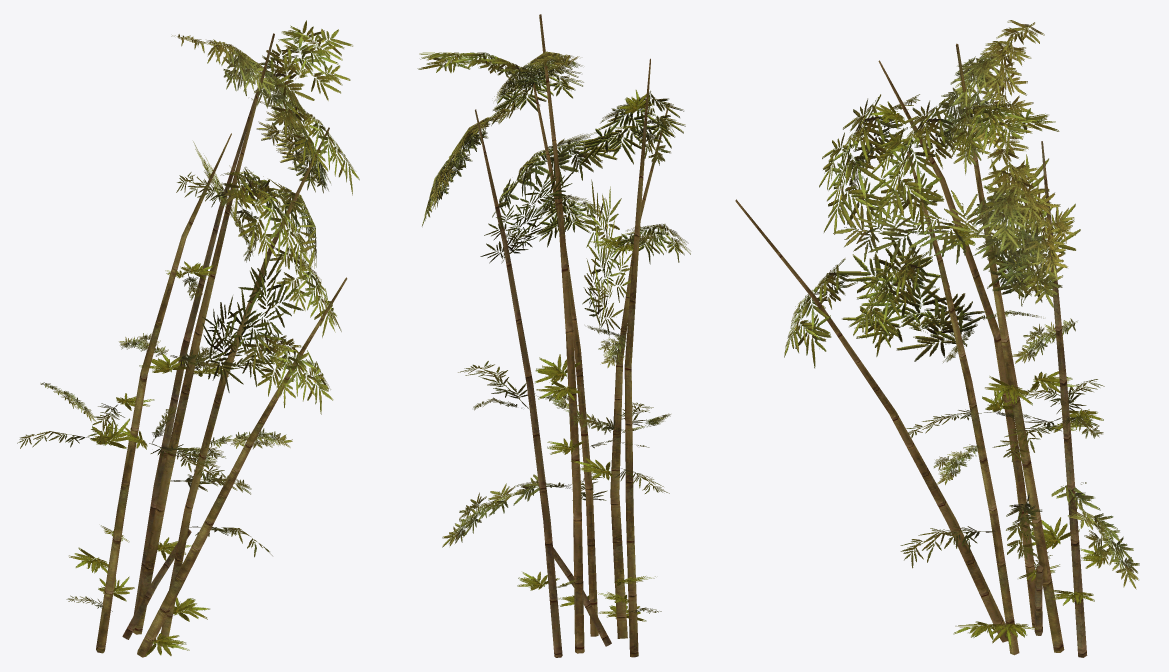
Rendered from q01a_tree_02.FBX.
3 renders of one model, left to right at view 1: azimuth 30°, elevation 25°; view 2: azimuth 150°, elevation 25°; view 3: azimuth 270°, elevation 25°, orthographic. The views are drawn at different scales.
Visible parts, largest first — view 1: q01a_tree_02; view 2: q01a_tree_02; view 3: q01a_tree_02.
Boxes of the visible parts, <box> form: q01a_tree_02: <box>17,20,359,657</box>; q01a_tree_02: <box>417,14,690,657</box>; q01a_tree_02: <box>735,20,1139,657</box>.
Size of the model in its own units: 346 by 633 by 367.
